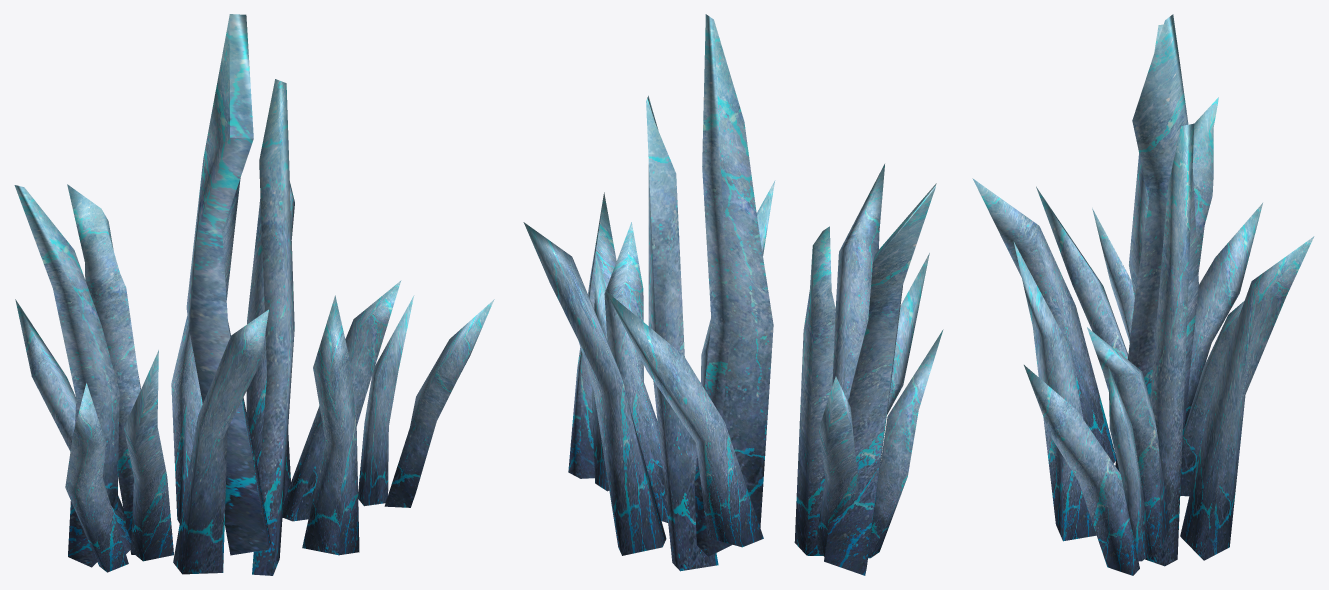
File: ice_pillar_s01.glb
3 views of the same model, side by side, from view 1: azimuth 30°, elevation 25°; view 2: azimuth 150°, elevation 25°; view 3: azimuth 270°, elevation 25° (orthographic). The views are drawn at different scales.
Visible parts, largest first — view 1: ice_pillar_s01; view 2: ice_pillar_s01; view 3: ice_pillar_s01.
Part boxes in pixels (x1,y1,x2,y2): ice_pillar_s01: (14,14,494,575); ice_pillar_s01: (523,14,943,575); ice_pillar_s01: (972,14,1314,575).
Bounding box in the file's own units: 31.14 × 40.7 × 23.77.
Materials: 1 (1 with a texture image).
